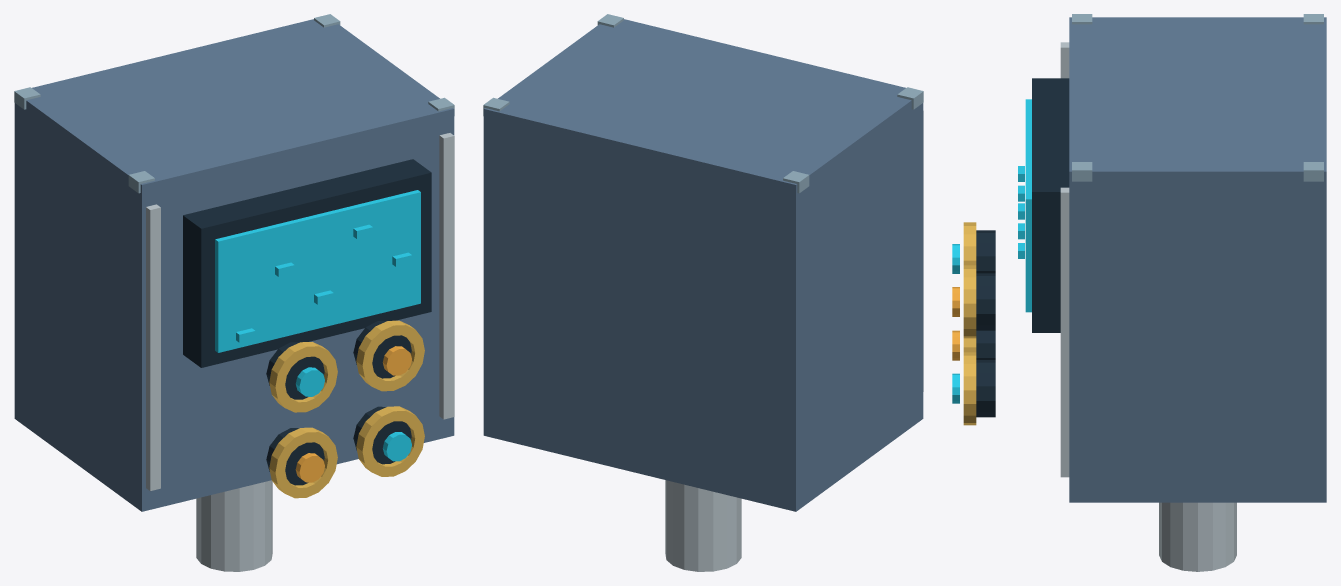
The model's file is 31_L83_BusCurrentShuntMonitor.fbx.
The picture shows the model from 3 angles, left to right: view 1: azimuth 30°, elevation 25°; view 2: azimuth 150°, elevation 25°; view 3: azimuth 270°, elevation 25°; orthographic projection.
Parts seen in each view (by area): view 1: BusCurrentShuntMonitor; view 2: BusCurrentShuntMonitor; view 3: BusCurrentShuntMonitor.
Boxes of the visible parts, x1,y1,x2,y2 form: BusCurrentShuntMonitor: [14, 14, 454, 571]; BusCurrentShuntMonitor: [483, 14, 923, 571]; BusCurrentShuntMonitor: [952, 14, 1326, 571].
Size of the model in its own units: 61.76 by 85.44 by 62.55.
